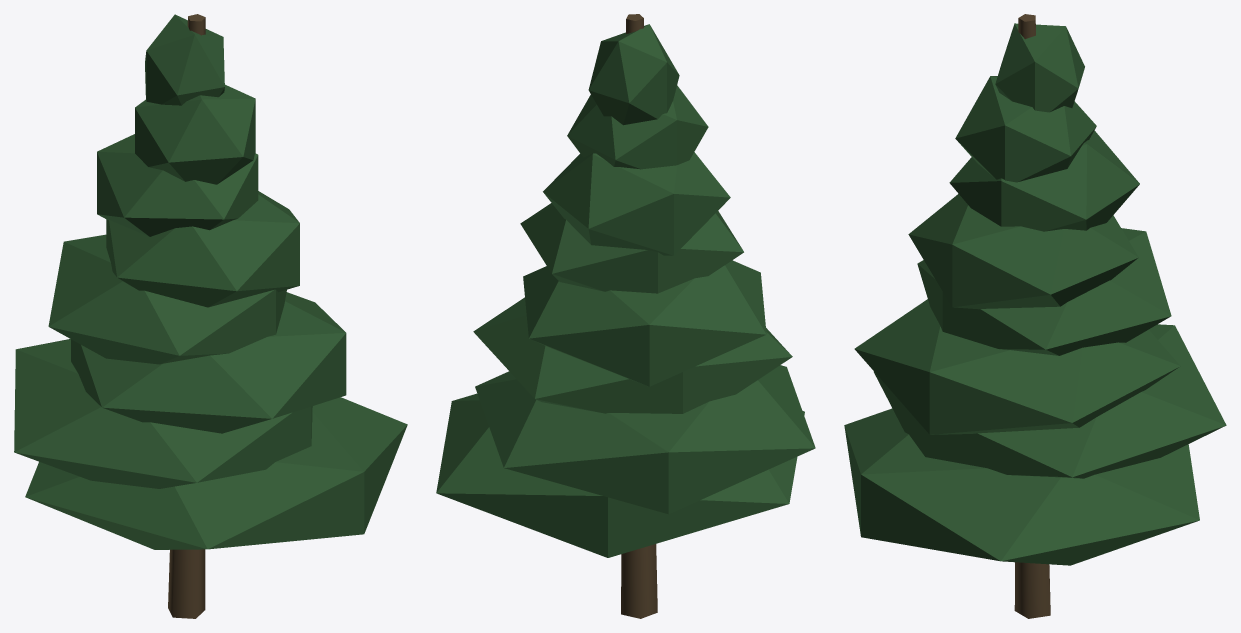
3 renders of one model, left to right at view 1: azimuth 30°, elevation 25°; view 2: azimuth 150°, elevation 25°; view 3: azimuth 270°, elevation 25°, orthographic.
Visible parts, largest first — view 1: pine-leaf; view 2: pine-leaf; view 3: pine-leaf.
Boxes of the visible parts, x1=… form: pine-leaf: x1=14, y1=14, x2=407, y2=618; pine-leaf: x1=436, y1=14, x2=815, y2=618; pine-leaf: x1=844, y1=14, x2=1226, y2=618.
Bounding box in the file's own units: 6.7 × 10.01 × 5.81.
